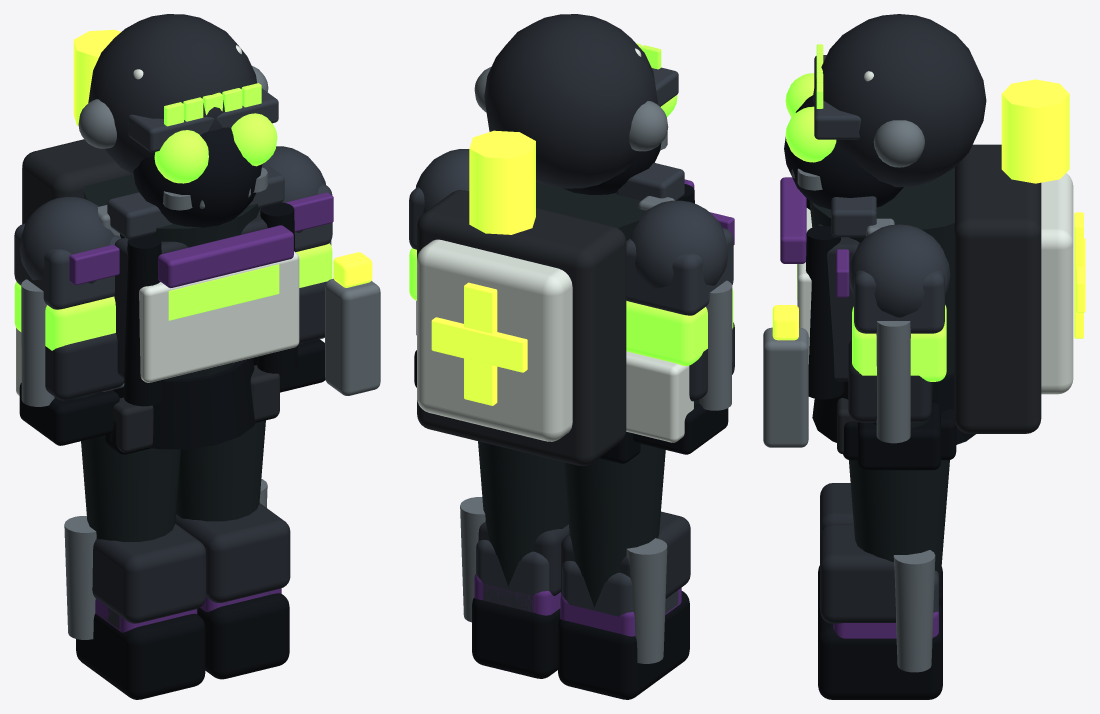
Rendered from medic_l05.glb.
The picture shows the model from 3 angles, left to right: view 1: azimuth 30°, elevation 25°; view 2: azimuth 150°, elevation 25°; view 3: azimuth 270°, elevation 25°; orthographic projection. The views are drawn at different scales.
Visible parts, largest first — view 1: shaped_knee_guard (×2), trouser (×2), boot (×2), rounded_helmet, reinforced_vest, waist_flex, shoulder_joint (×2), enclosed_mask, aid_injector, vest_tether (×2), forearm_plate (×2), glove (×2) (+20 smaller); view 2: field_pack, rounded_helmet, medical_pack, trouser (×2), boot (×2), shoulder_joint (×2), elite_aid_beacon, shin_frame (×2), knee_plate (×2), triage_satchel, shoulder_plate (×2), rank_stripe (+13 smaller); view 3: field_pack, rounded_helmet, trouser, shaped_knee_guard (×2), medical_pack, boot, elite_aid_beacon, shoulder_joint, aid_injector, body, shin_frame, vest_tether (+22 smaller).
Boxes of the visible parts, box(x1,y1,x2,y2) form: shaped_knee_guard (×2): box(92, 503, 290, 623); trouser (×2): box(81, 420, 265, 541); boot (×2): box(76, 593, 289, 699); rounded_helmet: box(88, 14, 256, 174); reinforced_vest: box(139, 251, 299, 382); waist_flex: box(113, 358, 256, 449); shoulder_joint (×2): box(19, 146, 325, 283); enclosed_mask: box(133, 127, 262, 227); aid_injector: box(325, 278, 380, 395); vest_tether (×2): box(124, 202, 297, 406); forearm_plate (×2): box(45, 281, 326, 400); glove (×2): box(19, 339, 325, 445); field_pack: box(417, 190, 626, 465); rounded_helmet: box(484, 14, 658, 188); medical_pack: box(417, 239, 572, 441); trouser (×2): box(478, 441, 665, 607); boot (×2): box(472, 591, 689, 699); shoulder_joint (×2): box(416, 149, 728, 289); elite_aid_beacon: box(469, 130, 535, 234); shin_frame (×2): box(460, 497, 667, 663); knee_plate (×2): box(476, 540, 678, 616); triage_satchel: box(626, 351, 693, 442); shoulder_plate (×2): box(409, 187, 733, 315); rank_stripe: box(626, 289, 733, 366); field_pack: box(954, 144, 1041, 433); rounded_helmet: box(812, 14, 986, 187); trouser: box(849, 460, 949, 597); shaped_knee_guard (×2): box(820, 483, 895, 623); medical_pack: box(1041, 173, 1073, 394); boot: box(818, 604, 942, 699); elite_aid_beacon: box(1001, 79, 1069, 183); shoulder_joint: box(849, 224, 950, 317); aid_injector: box(763, 327, 808, 447); body: box(809, 167, 954, 376); shin_frame: box(893, 550, 935, 672); vest_tether: box(806, 226, 844, 399).
Size of the model in its own units: 0.9406 by 1.88 by 0.8525.
